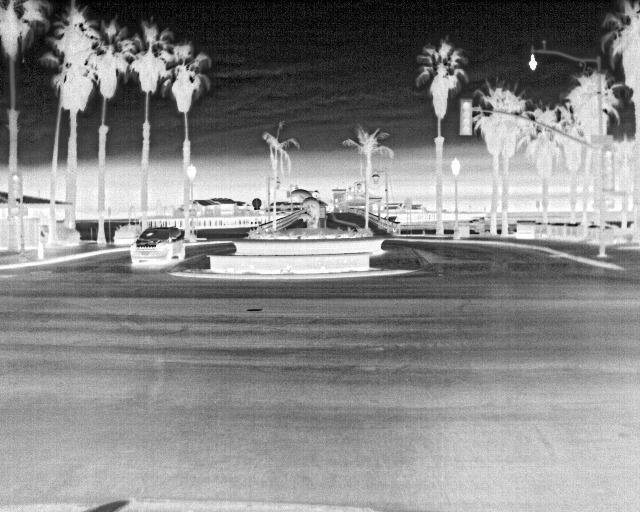car: (126, 224, 188, 267)
